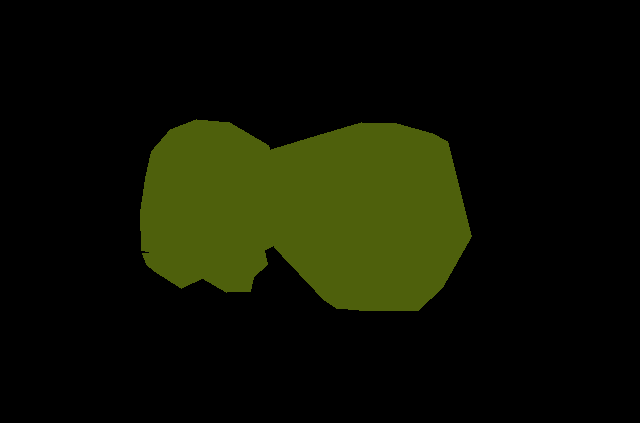Train: (264, 122, 472, 311), (140, 119, 276, 292)
